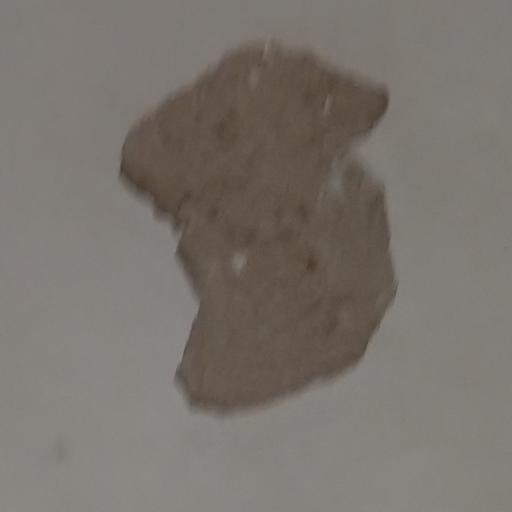peeling: (96, 22, 426, 430)
